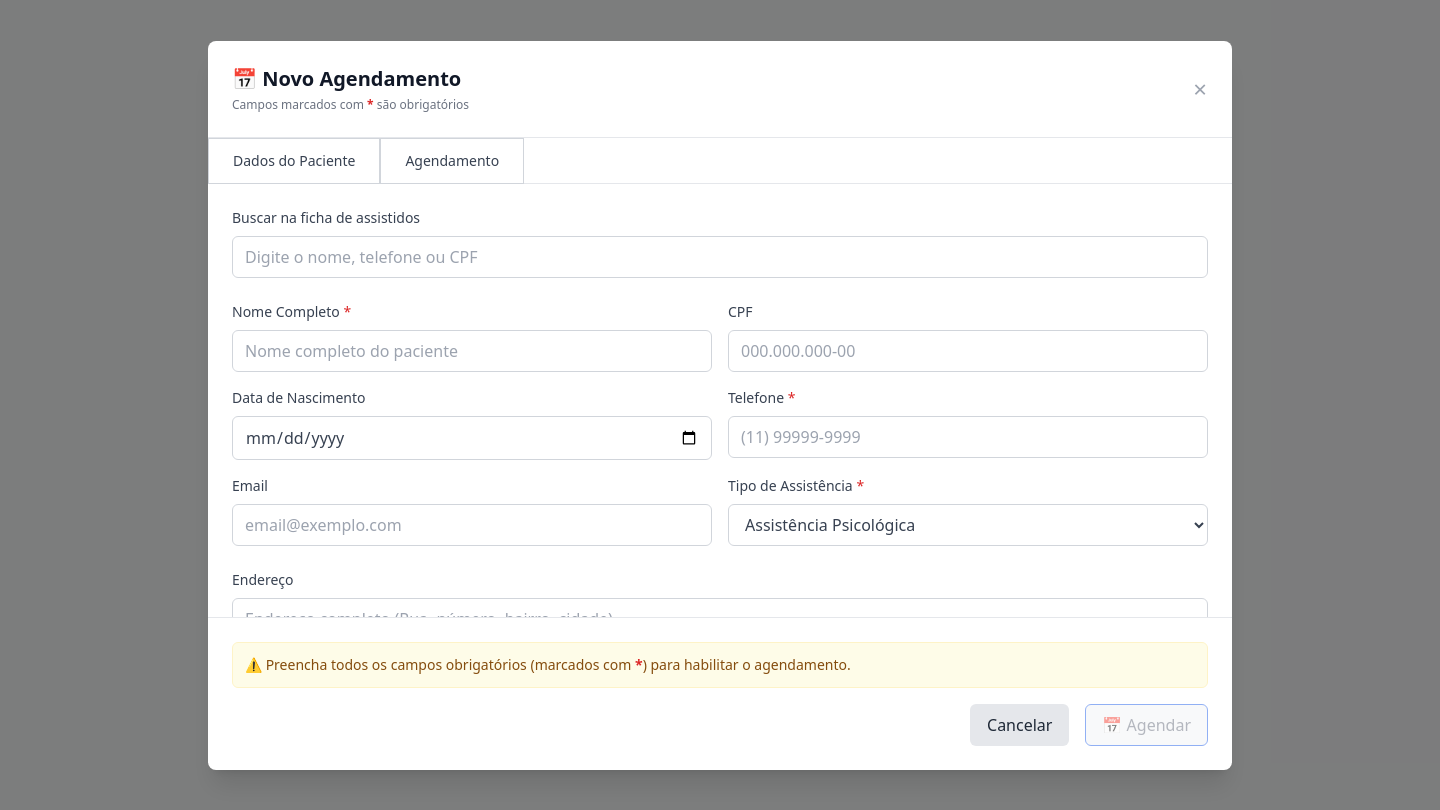
Scenario: AgendamentoAssistenciaModalEnhanced › fills patient data from an existing assistido search
Type "Mariane" into the field with placeholder "Digite o nome, telefone ou CPF".
click(720, 256); type("Mariane")  # box [232, 236, 1208, 278]
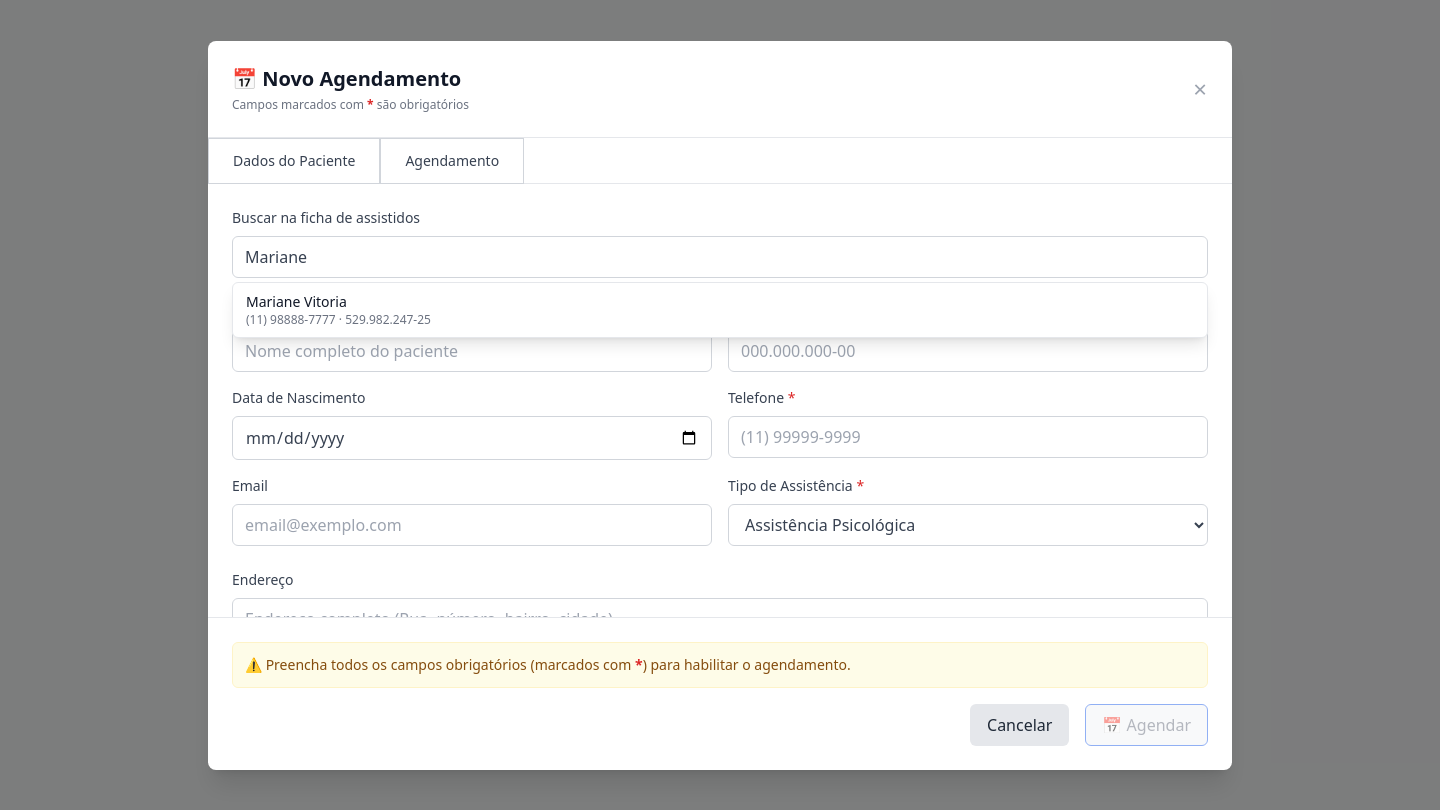
Click the button "Mariane Vitoria (11) 98888-7777 · 529.982.247-25".
click(296, 301)  # box [233, 282, 1207, 336]
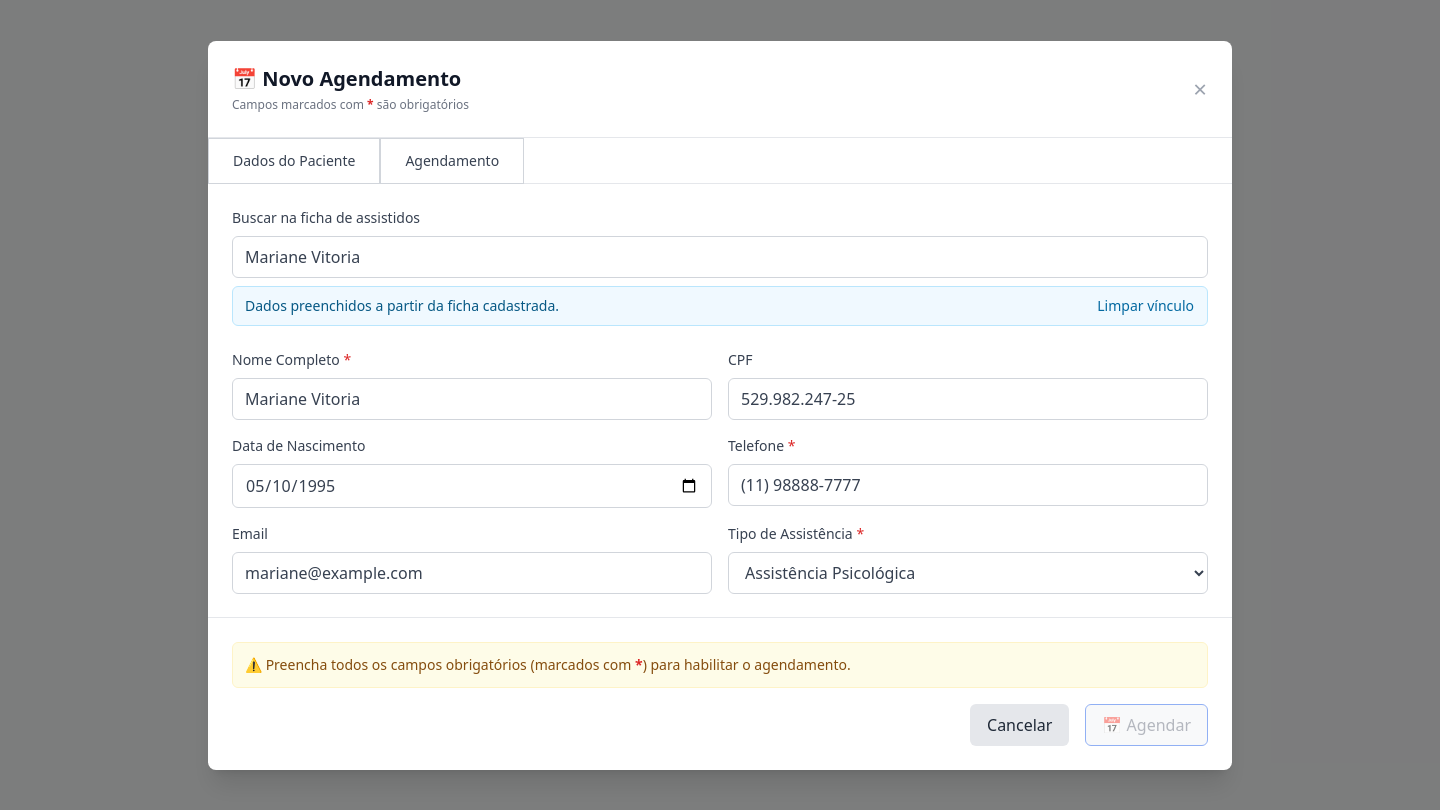
Check: the field with placeholder "Nome completo do paciente" below "Nome Completo" holds "Mariane Vitoria", box [232, 378, 712, 420]
Check: the field with placeholder "(11) 99999-9999" below "Telefone" holds "(11) 98888-7777", box [728, 464, 1208, 506]
Check: the field with placeholder "email@exemplo.com" below "Email" holds "mariane@example.com", box [232, 552, 712, 594]
